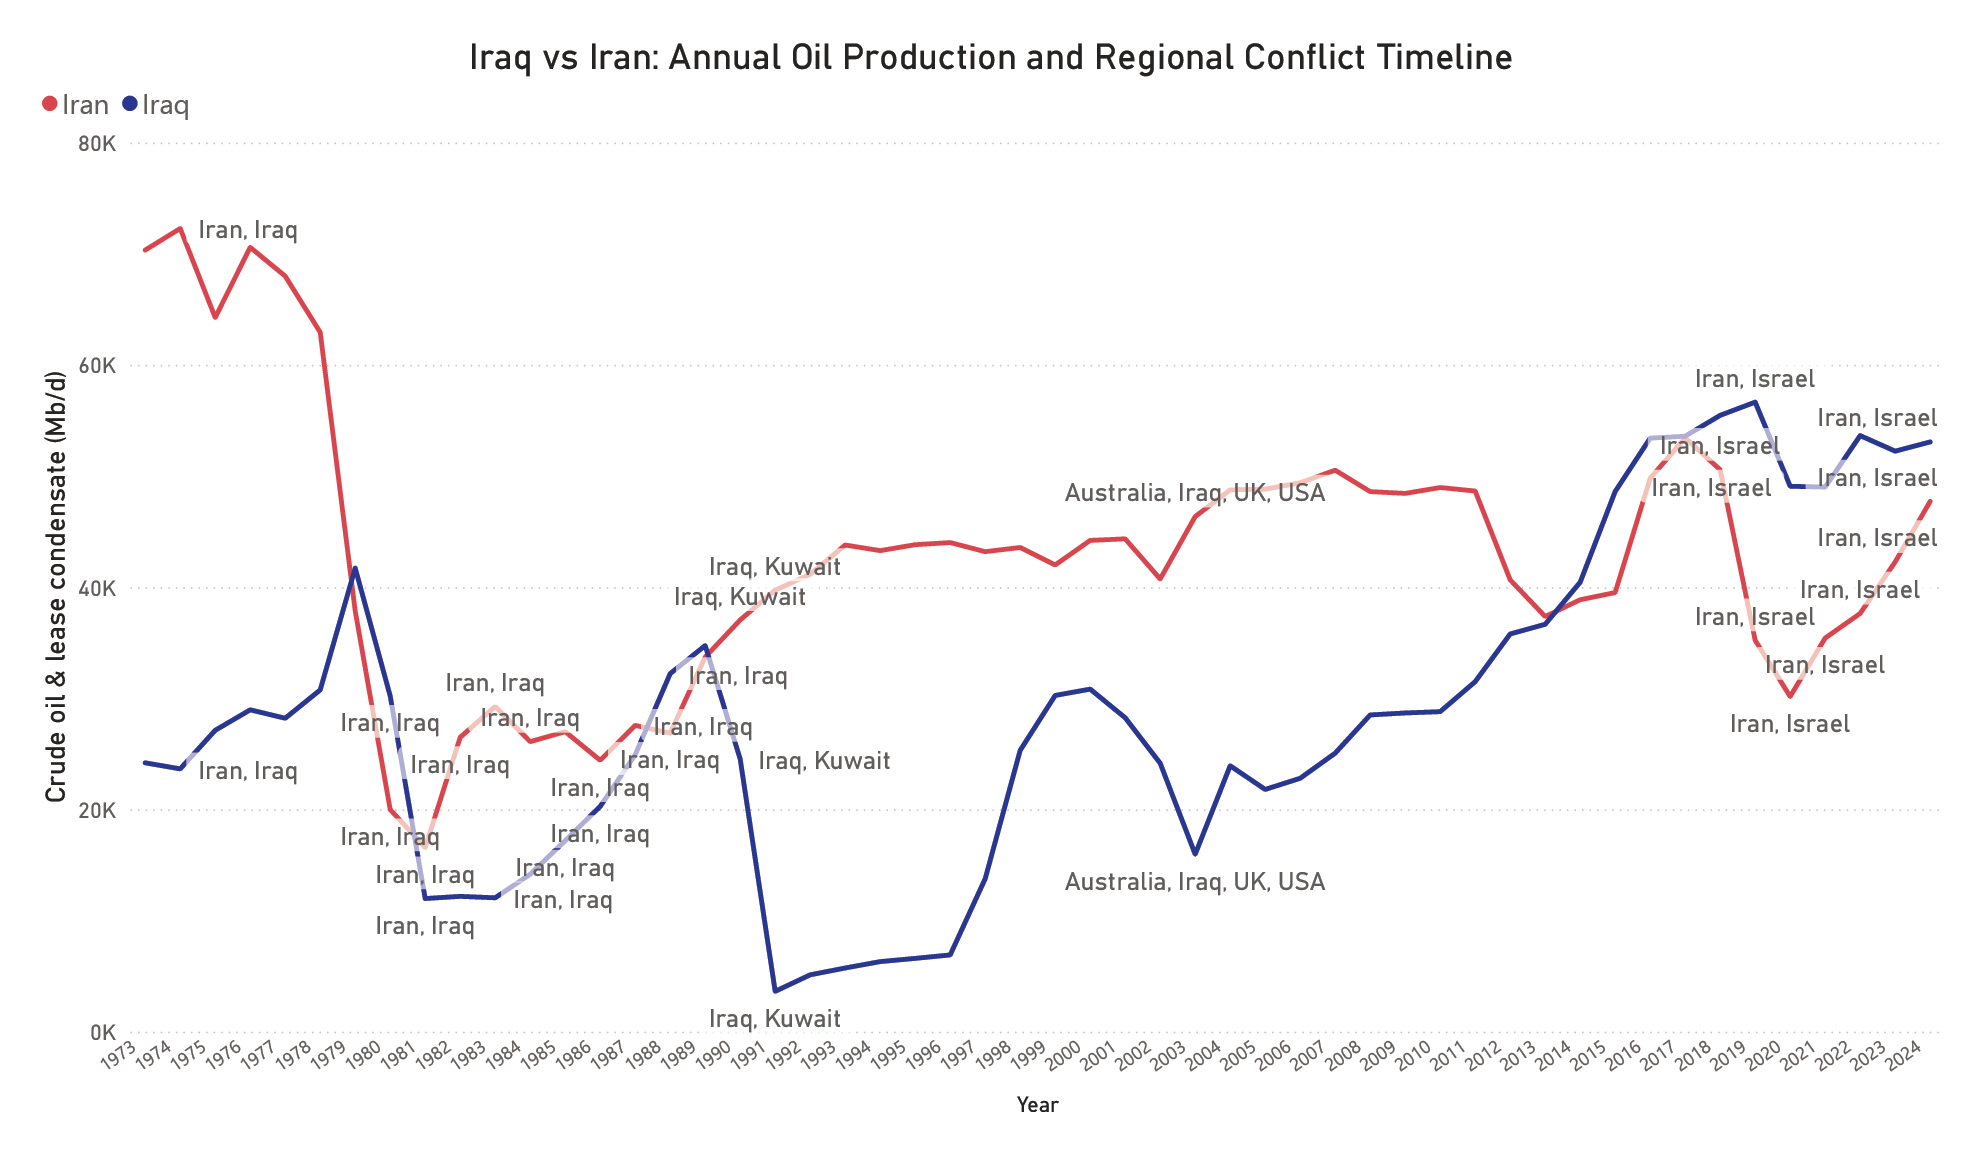

The page's visual inventory and layout, read from the dashboard file:
{"tool":"powerbi","page":{"name":"Iraq vs Iran","canvas":[1280,720],"ordinal":0},"visuals":[{"type":"lineStackedColumnComboChart","title":"Iraq vs Iran: Annual Oil Production and Regional Conflict Timeline","fields":{"Category":["oil production clean2.date.Variation.Date Hierarchy.Year"],"Y2":["Sum(oil production clean2.Iran)","Sum(oil production clean2.Iraq)"]},"box":[9.6,0,1270,719.4],"z":0}]}

Visuals, with their boxes on the page's 1280x720 design canvas (x1, y1, x2, y2). These are canvas units, not pixel positions in the 1984x1156 screenshot, which may show the page scaled, cropped or inside an application window:
"Iraq vs Iran: Annual Oil Production and Regional Conflict Timeline" lineStackedColumnComboChart: l=10, t=0, r=1280, b=719
